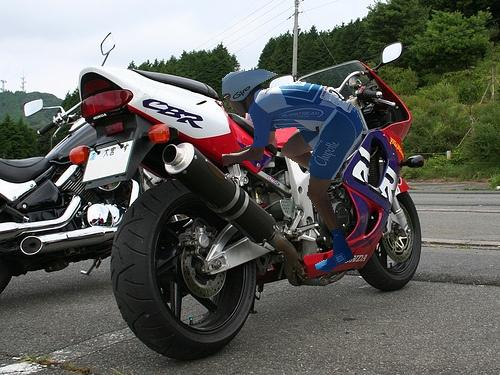tampered: (223, 70, 363, 272)
